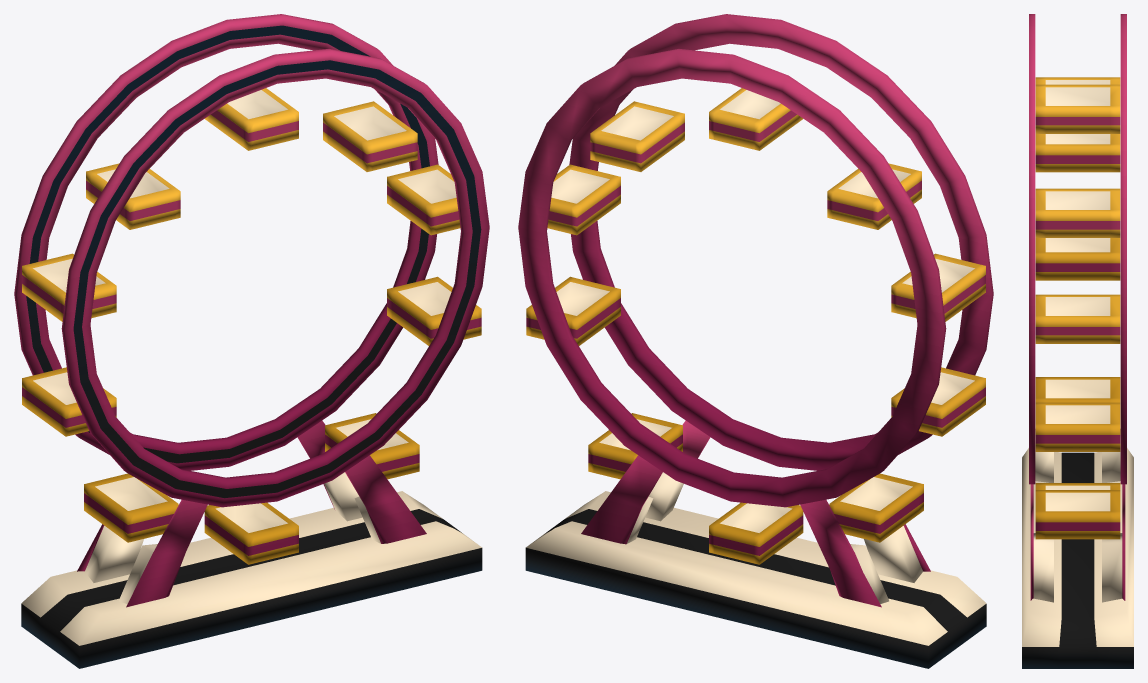
Rendered from Riesenrad.fbx.
3 views of the same model, side by side, from view 1: azimuth 30°, elevation 25°; view 2: azimuth 150°, elevation 25°; view 3: azimuth 270°, elevation 25° (orthographic). The views are drawn at different scales.
Visible parts, largest first — view 1: Cube.002; view 2: Cube.002; view 3: Cube.002.
Boxes of the visible parts, x1,y1,x2,y2 form: Cube.002: (14,14,489,668); Cube.002: (518,14,993,668); Cube.002: (1022,14,1133,668).
Bounding box in the file's own units: 966 × 1217 × 229.
